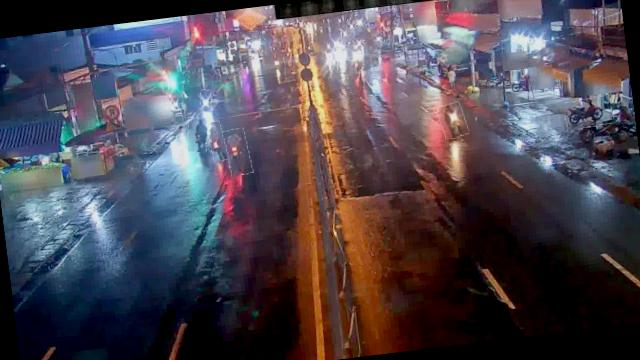Bike: (562, 96, 614, 130), (222, 128, 252, 176), (436, 102, 467, 139), (205, 120, 228, 162), (185, 116, 210, 153), (198, 90, 212, 114)
